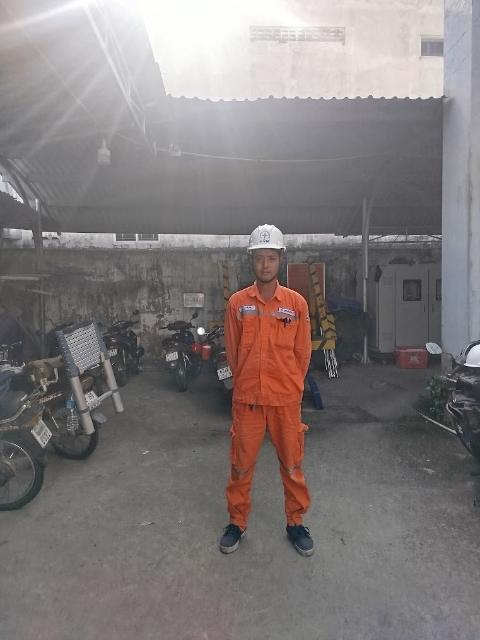helmet: (246, 219, 295, 257)
shoes: (277, 518, 324, 558), (216, 515, 250, 548)
